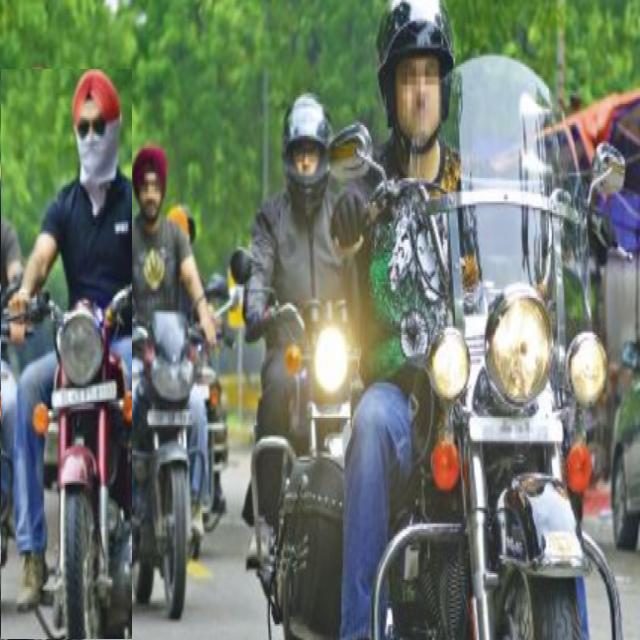motorcycle: (331, 0, 629, 639), (1, 69, 131, 639), (110, 145, 215, 618)
